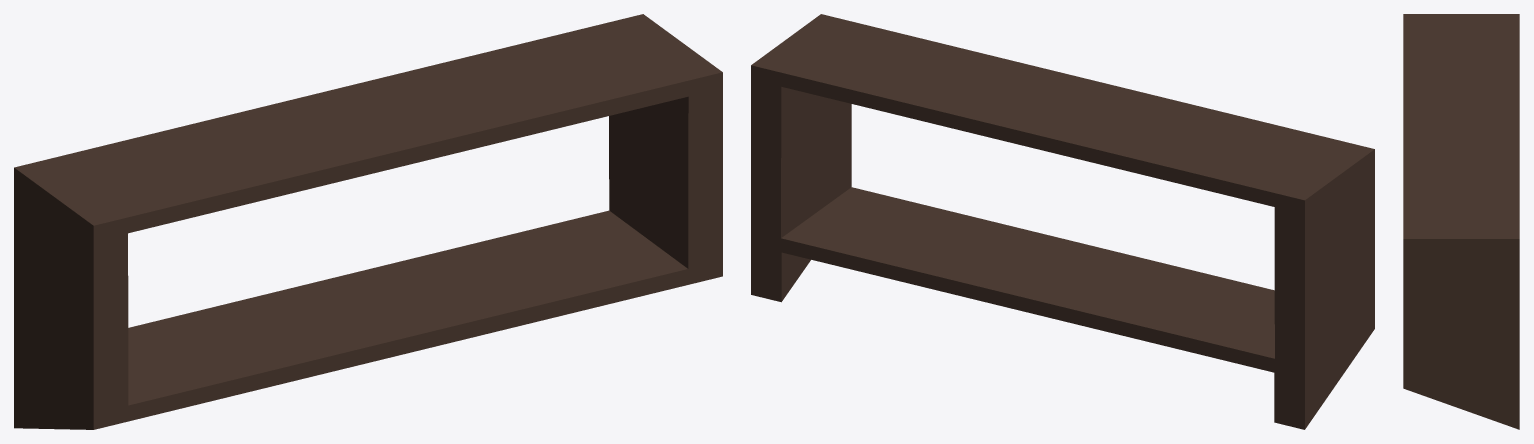
Rendered from wallboookshelf1.fbx.
3 renders of one model, left to right at view 1: azimuth 30°, elevation 25°; view 2: azimuth 150°, elevation 25°; view 3: azimuth 270°, elevation 25°, orthographic. The views are drawn at different scales.
Visible parts, largest first — view 1: Wall Bookshelf Large; view 2: Wall Bookshelf Large; view 3: Wall Bookshelf Large.
Part boxes in pixels (x1,y1,x2,y2): Wall Bookshelf Large: (14,14,722,429); Wall Bookshelf Large: (751,14,1374,429); Wall Bookshelf Large: (1403,14,1519,429).
Size of the model in its own units: 112 by 44.51 by 24.63.
